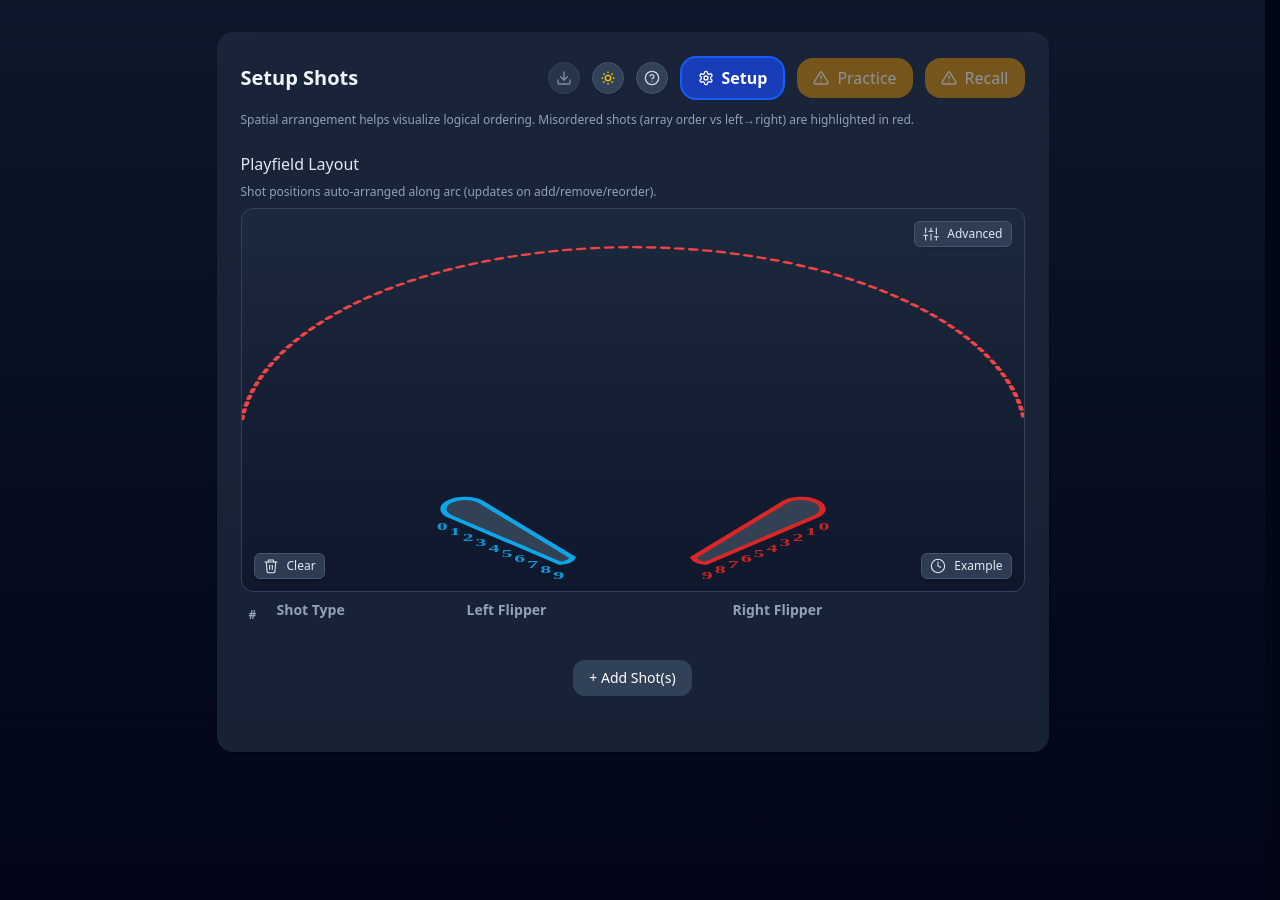
Scenario: App - Additional Features › Advanced Options › should open advanced options dialog
Expected: the heading "Setup Shots" is shown, [240, 64, 358, 92]
Click the button with aria-label "advanced practice options" at x=963, y=234, box [914, 221, 1012, 247]
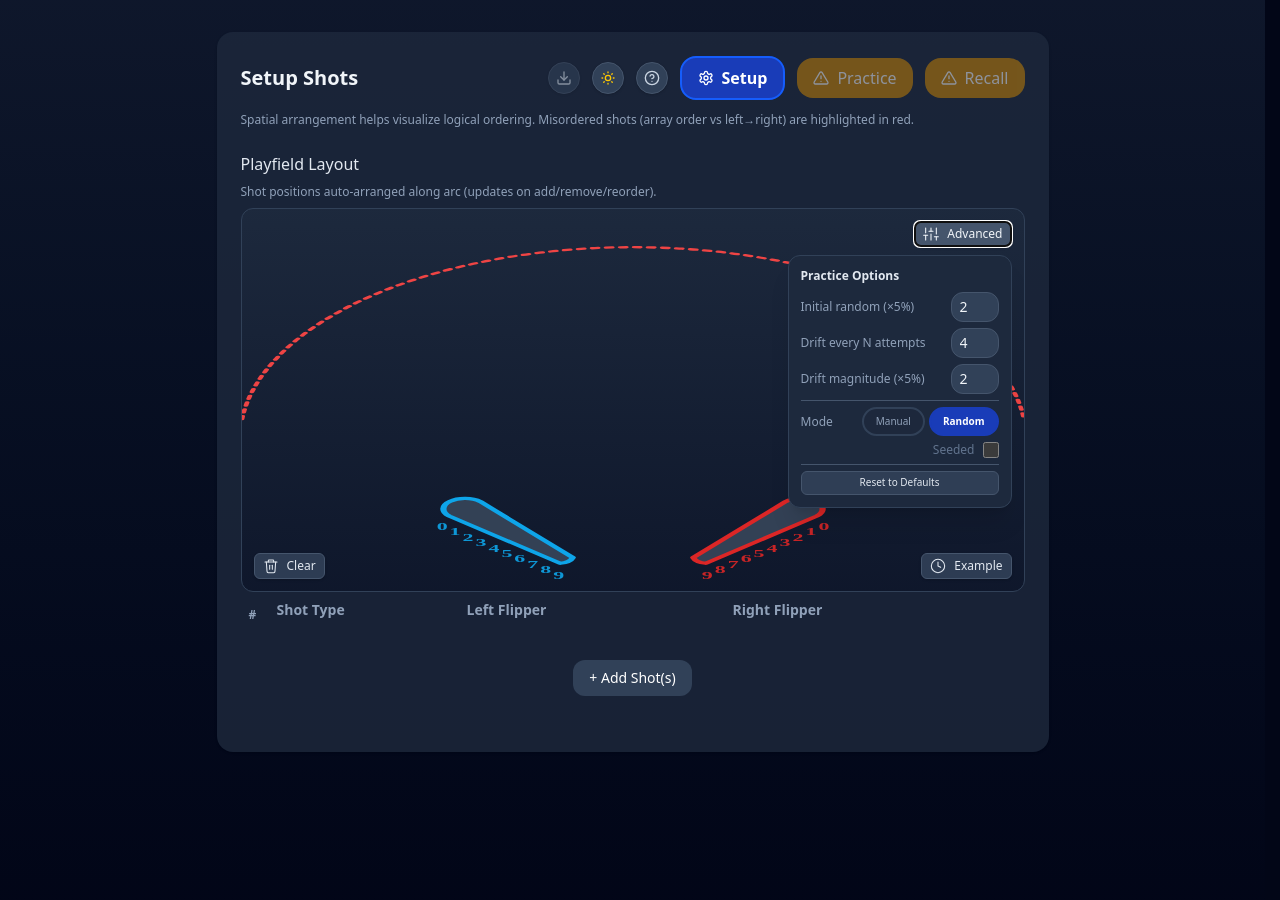
Now the button with aria-label "advanced practice options" is expanded, box [914, 221, 1012, 247]
